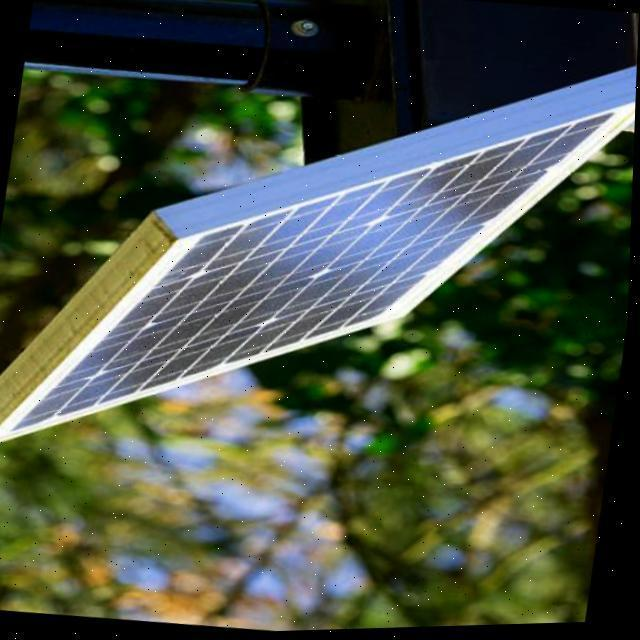Normal Solar Panel: (0, 27, 639, 510)
